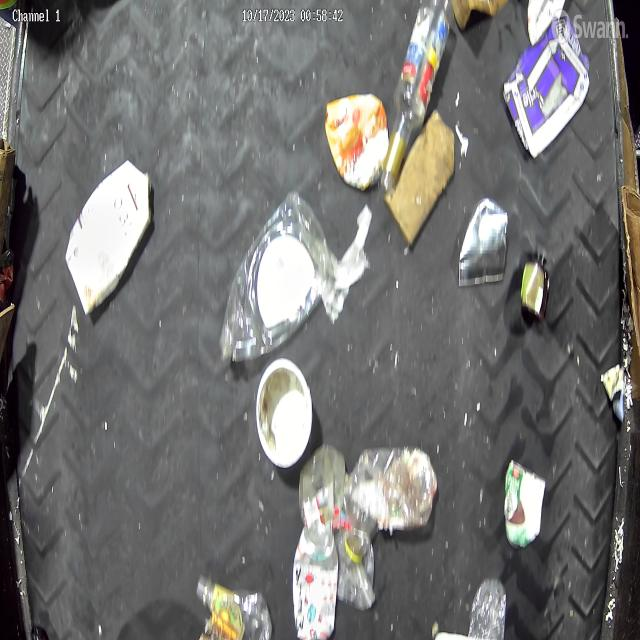can: (291, 519, 340, 640), (461, 198, 509, 283), (520, 260, 547, 322)
milk_jug: (65, 160, 150, 314)
plastic_bottle: (222, 192, 328, 364), (399, 2, 451, 123), (196, 573, 273, 640)
